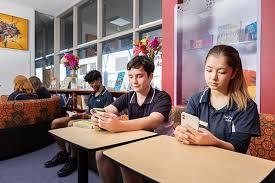phone: (174, 45, 260, 153), (90, 56, 171, 133)
